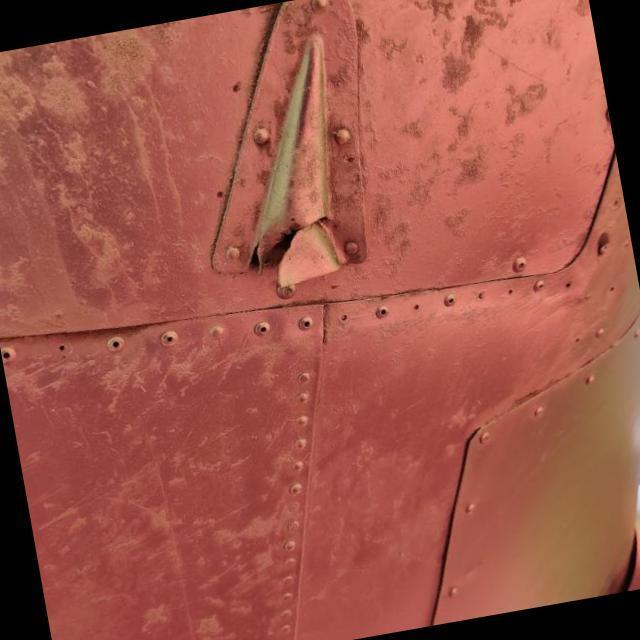Missing Fastener: (217, 72, 249, 102), (500, 281, 520, 305), (412, 298, 428, 324), (206, 183, 228, 200), (331, 307, 351, 325), (474, 285, 494, 303), (54, 340, 72, 358), (602, 280, 622, 296), (558, 278, 578, 290)
